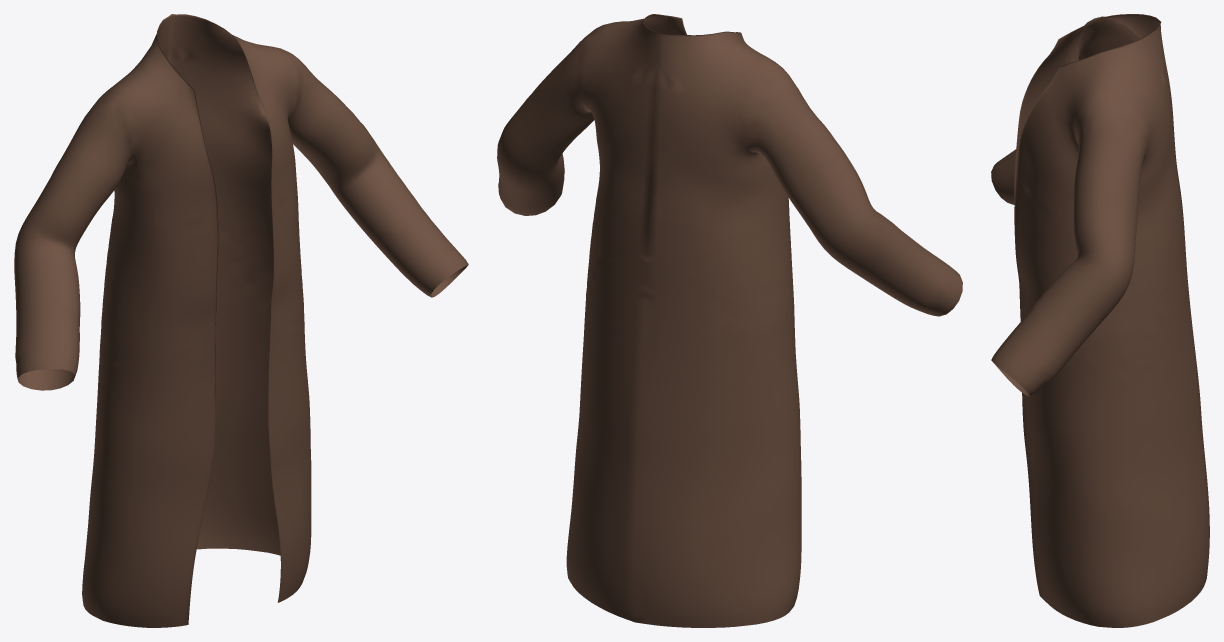
File: coat2.fbx
3 views of the same model, side by side, from view 1: azimuth 30°, elevation 25°; view 2: azimuth 150°, elevation 25°; view 3: azimuth 270°, elevation 25° (orthographic). The views are drawn at different scales.
Visible parts, largest first — view 1: Ch36.001; view 2: Ch36.001; view 3: Ch36.001.
Part boxes in pixels (left/top/right/bottom): Ch36.001: left=14, top=14, right=468, bottom=627; Ch36.001: left=497, top=14, right=962, bottom=627; Ch36.001: left=991, top=14, right=1209, bottom=627.
Bounding box in the file's own units: 99.75 × 119 × 42.48.
